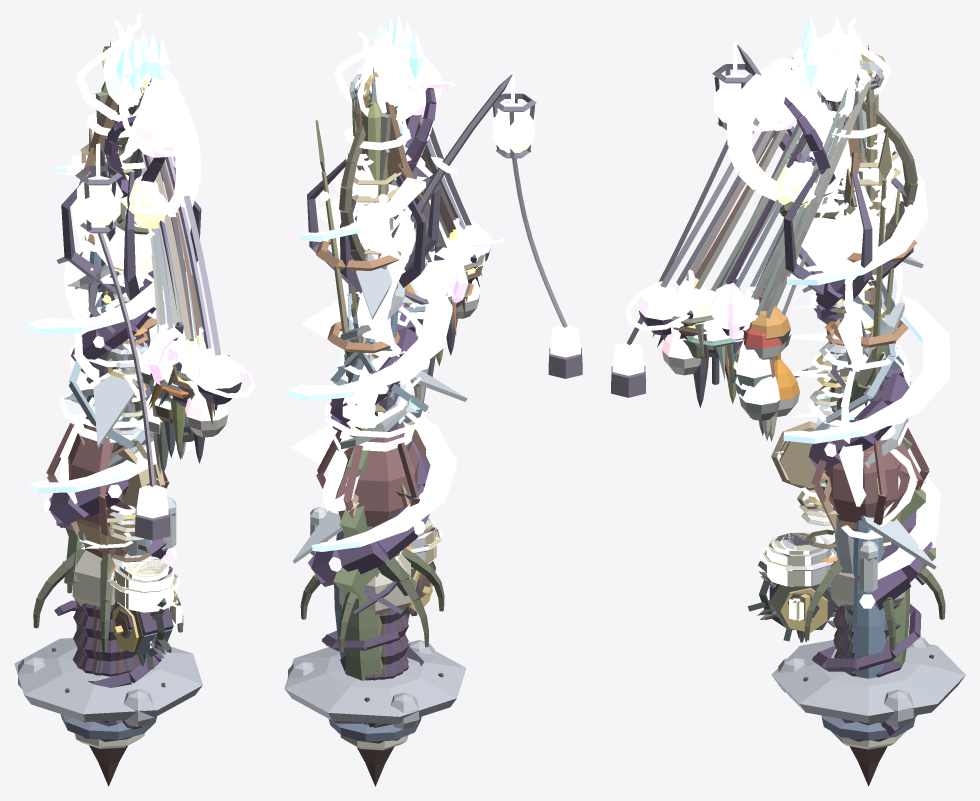
File: rod.glb
The picture shows the model from 3 angles, left to right: view 1: azimuth 30°, elevation 25°; view 2: azimuth 150°, elevation 25°; view 3: azimuth 270°, elevation 25°; orthographic projection. The views are drawn at different scales.
Parts seen in each view (by area): view 1: Thunderhead_Grip, Krakenheart_Twig, Eyewall_Trim, Riptide_Trim, Wraithheart_Trim, Krakenheart_Grip, Frostheart_Trim, Brineheart_Twig, Mireheart_Twig, Gloomheart_Twig, Krakenheart_Trim, Rimebound_Trim (+41 smaller); view 2: Eyewall_Trim, Thunderhead_Grip, Krakenheart_Twig, Brineheart_Twig, Aurora_Trim, Wraithheart_Trim, Gloomheart_Twig, Gatorback_Twig, Mireheart_Twig, Squallcaster_Trim, Lanternline_Twig, Sailcloth_Trim (+29 smaller); view 3: Eyewall_Trim, Thunderhead_Grip, Riptide_Trim, Krakenheart_Twig, Brineheart_Twig, Wraithheart_Trim, Sailcloth_Trim, Krakenheart_Grip, Gloomheart_Twig, Mireheart_Twig, Riggingline_Trim, Gloomheart_Trim (+45 smaller).
Part boxes in pixels (x1=…): Thunderhead_Grip: x1=14, y1=638, x2=202, y2=727; Krakenheart_Twig: x1=49, y1=116, x2=166, y2=559; Eyewall_Trim: x1=28, y1=112, x2=186, y2=540; Riptide_Trim: x1=112, y1=79, x2=201, y2=590; Wraithheart_Trim: x1=59, y1=22, x2=179, y2=504; Krakenheart_Grip: x1=54, y1=599, x2=173, y2=687; Frostheart_Trim: x1=58, y1=29, x2=169, y2=548; Brineheart_Twig: x1=46, y1=155, x2=169, y2=558; Mireheart_Twig: x1=33, y1=202, x2=183, y2=652; Gloomheart_Twig: x1=54, y1=167, x2=201, y2=586; Krakenheart_Trim: x1=43, y1=81, x2=195, y2=563; Rimebound_Trim: x1=110, y1=246, x2=182, y2=648; Eyewall_Trim: x1=288, y1=124, x2=456, y2=551; Thunderhead_Grip: x1=284, y1=640, x2=466, y2=729; Krakenheart_Twig: x1=308, y1=88, x2=436, y2=586; Brineheart_Twig: x1=316, y1=421, x2=430, y2=526; Aurora_Trim: x1=322, y1=70, x2=436, y2=537; Wraithheart_Trim: x1=333, y1=26, x2=449, y2=479; Gloomheart_Twig: x1=307, y1=159, x2=440, y2=614; Gatorback_Twig: x1=333, y1=121, x2=402, y2=680; Mireheart_Twig: x1=300, y1=186, x2=444, y2=652; Squallcaster_Trim: x1=293, y1=74, x2=467, y2=563; Lanternline_Twig: x1=337, y1=74, x2=536, y2=499; Sailcloth_Trim: x1=290, y1=69, x2=436, y2=549; Eyewall_Trim: x1=783, y1=114, x2=950, y2=579; Thunderhead_Grip: x1=771, y1=637, x2=965, y2=727; Riptide_Trim: x1=727, y1=58, x2=884, y2=555; Krakenheart_Twig: x1=773, y1=97, x2=932, y2=610; Brineheart_Twig: x1=811, y1=378, x2=929, y2=529; Wraithheart_Trim: x1=792, y1=17, x2=891, y2=444; Sailcloth_Trim: x1=780, y1=67, x2=870, y2=620; Krakenheart_Grip: x1=757, y1=571, x2=921, y2=735; Gloomheart_Twig: x1=783, y1=156, x2=925, y2=585; Mireheart_Twig: x1=778, y1=89, x2=945, y2=650; Riggingline_Trim: x1=766, y1=57, x2=901, y2=600; Gloomheart_Trim: x1=801, y1=189, x2=885, y2=522.
Size of the model in its own units: 2.16 by 8.44 by 3.5.
